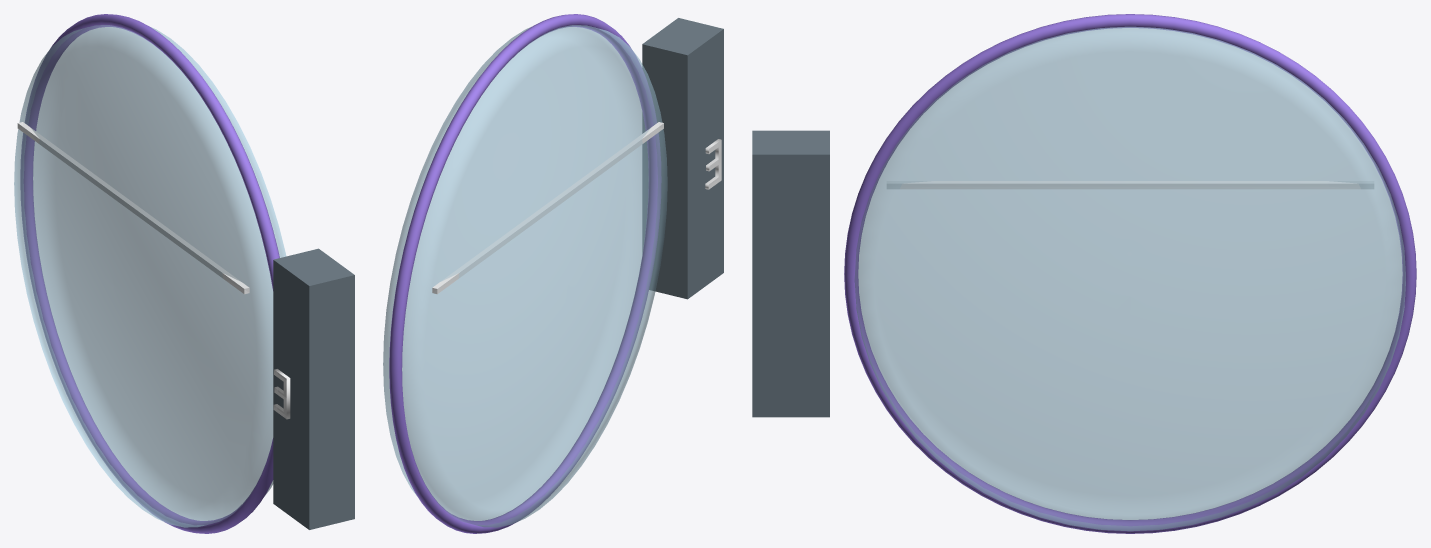
File: sim-eye-e.glb
3 renders of one model, left to right at view 1: azimuth 30°, elevation 25°; view 2: azimuth 150°, elevation 25°; view 3: azimuth 270°, elevation 25°, orthographic. The views are drawn at different scales.
Visible parts, largest first — view 1: optical element, insert tab, lens rim, vertical glint, eye label; view 2: optical element, insert tab, lens rim, vertical glint, eye label; view 3: optical element, lens rim, insert tab, vertical glint.
Part boxes in pixels (x1,y1,x2,y2): optical element: (14,25,286,527); insert tab: (273,248,354,529); lens rim: (20,14,279,533); vertical glint: (17,122,249,294); eye label: (273,369,290,419); optical element: (383,25,667,527); insert tab: (642,18,723,299); lens rim: (389,14,661,533); vertical glint: (432,122,663,294); eye label: (705,139,721,189); optical element: (854,27,1405,531); lens rim: (844,14,1416,533); insert tab: (752,130,829,417); vertical glint: (887,181,1373,189).
Size of the model in its own units: 0.3 by 1.62 by 1.88.
